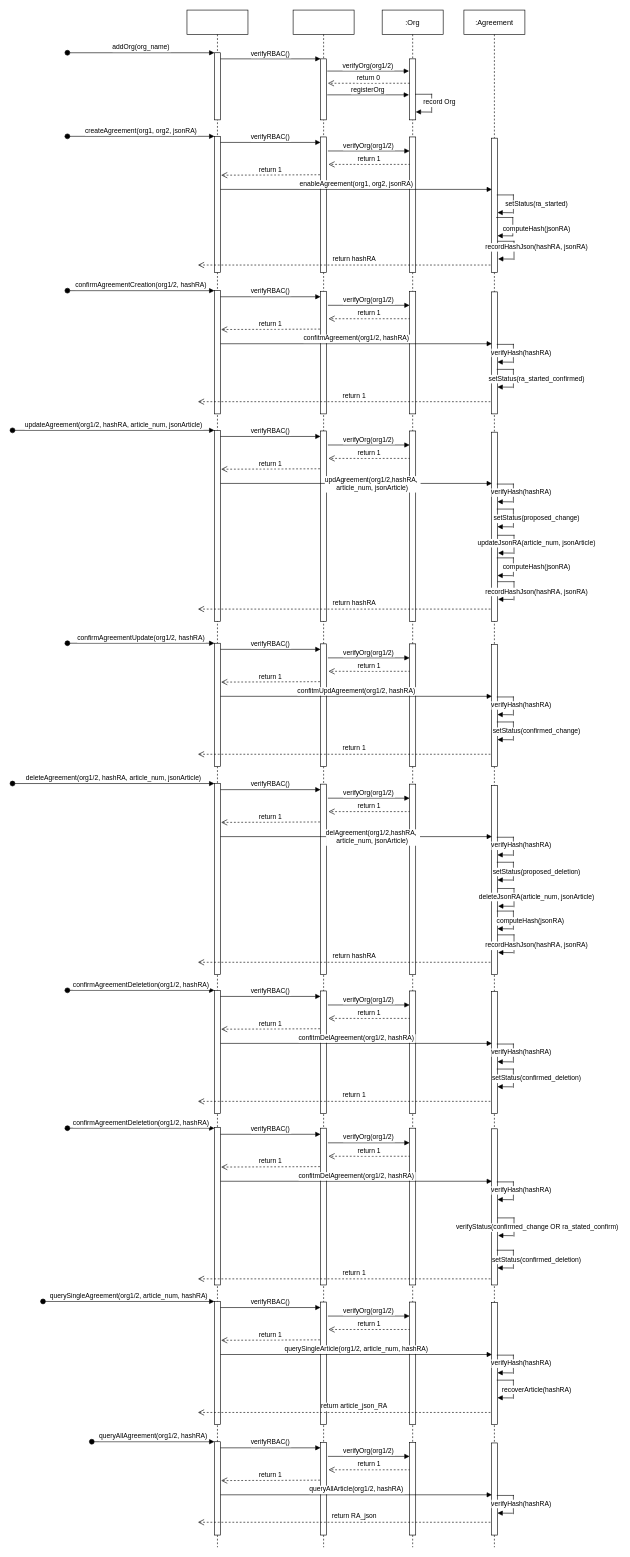
Some shapes in this 630 by 1557 pixel diagram are drawn without their labels. The centre of each missing label's shape, as x and y in pixels:
":Identity" belongs at [323,778].
":Proxy" belongs at [217,778].
